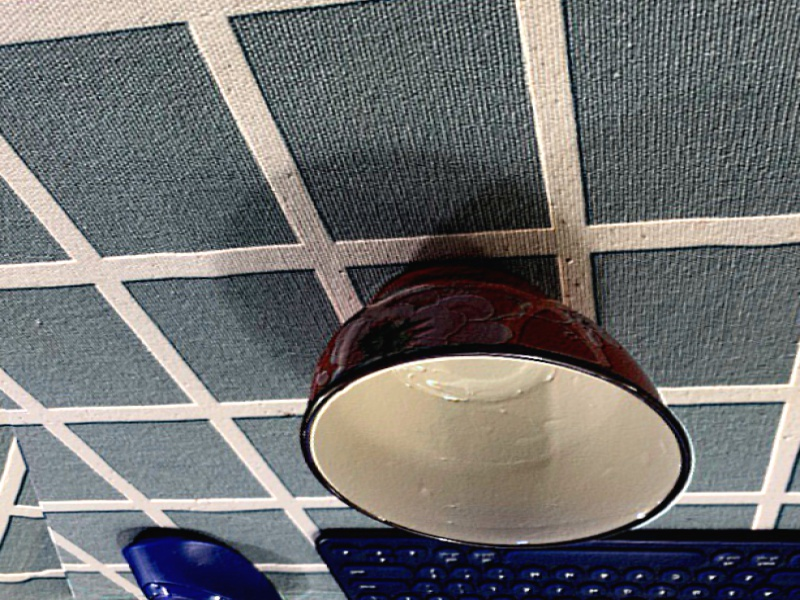bowl_small: (238, 242, 715, 556)
